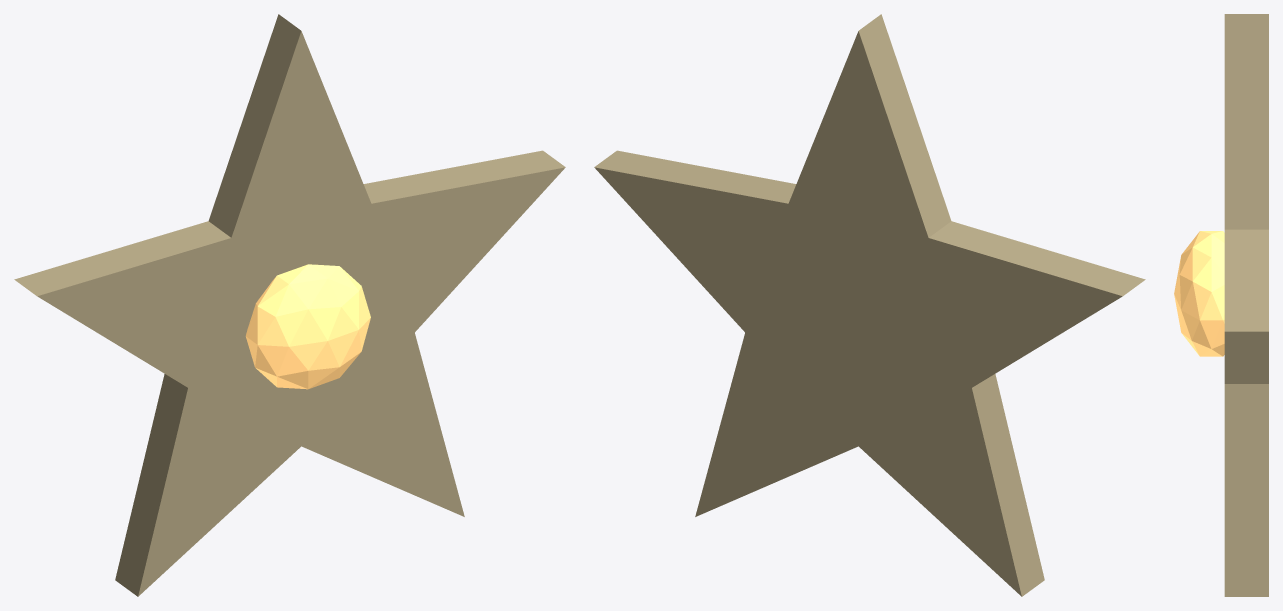
File: night-light.glb
The picture shows the model from 3 angles, left to right: view 1: azimuth 30°, elevation 25°; view 2: azimuth 150°, elevation 25°; view 3: azimuth 270°, elevation 25°; orthographic projection. The views are drawn at different scales.
Visible parts, largest first — view 1: Star of light.001, Star jewel.001; view 2: Star of light.001; view 3: Star of light.001, Star jewel.001.
Part boxes in pixels (box(x1,y1,x2,y2)): Star of light.001: box(14, 14, 565, 596); Star jewel.001: box(245, 264, 370, 389); Star of light.001: box(594, 14, 1145, 596); Star of light.001: box(1224, 14, 1268, 596); Star jewel.001: box(1174, 231, 1224, 356).
Size of the model in its own units: 0.0266 by 0.0253 by 0.0043.
